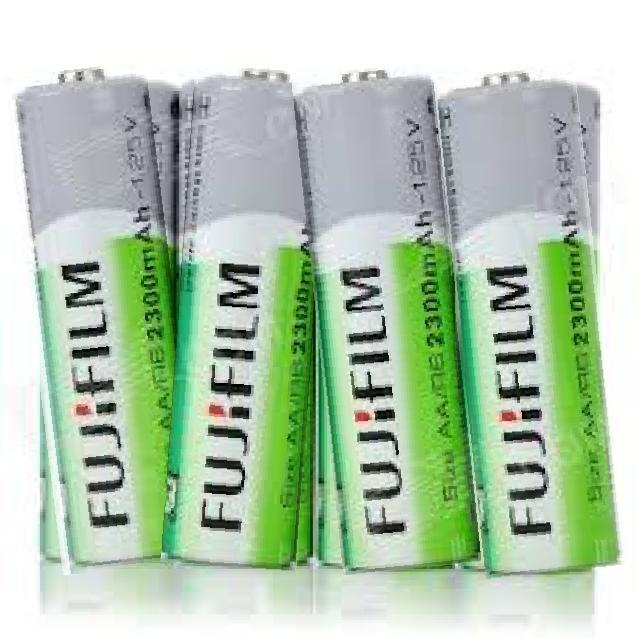Battery: (442, 50, 623, 581), (302, 61, 485, 566), (10, 42, 180, 564), (159, 65, 320, 571)
